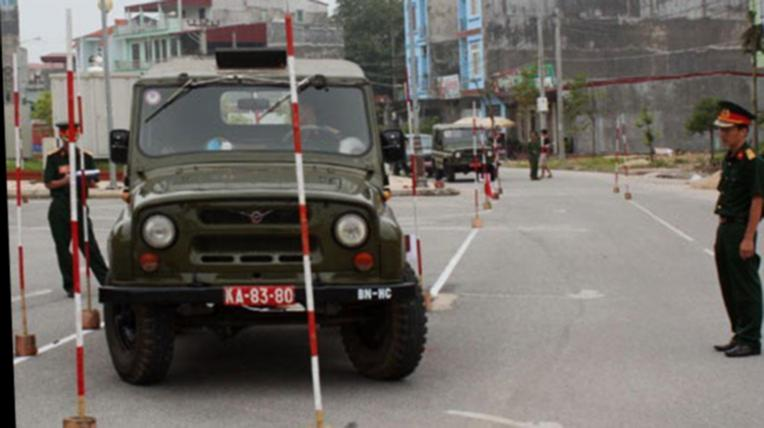License_Plate: (221, 285, 296, 309)
